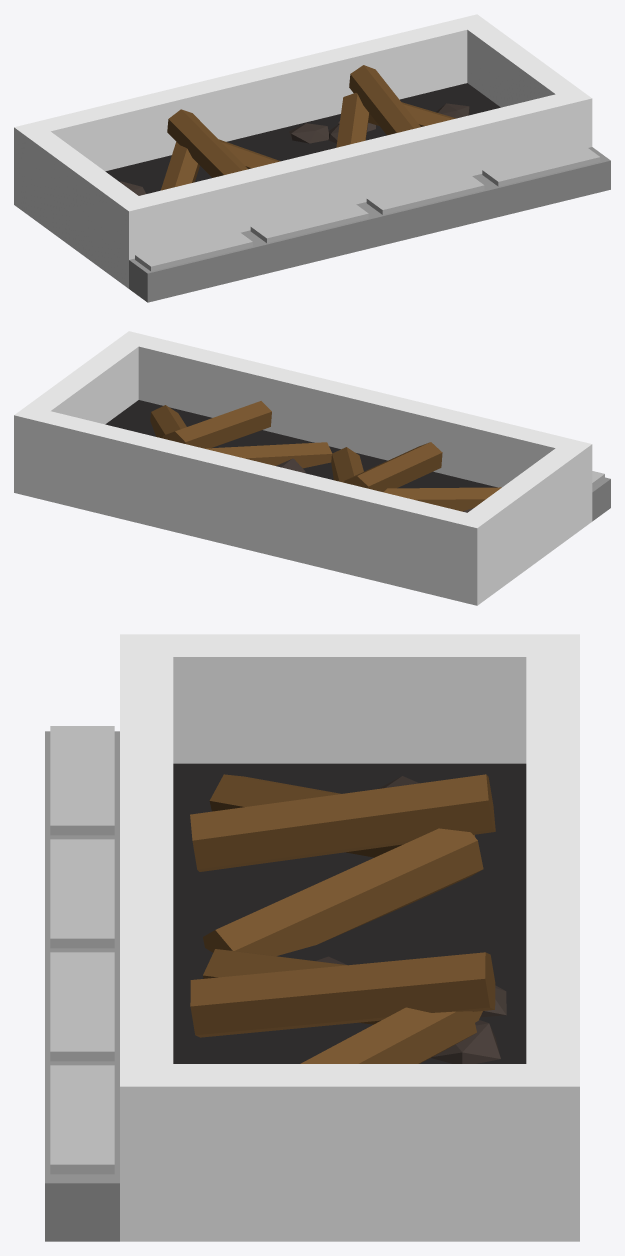
The model's file is vfem2_hearth.obj.
3 views of the same model, one above another, from view 1: azimuth 30°, elevation 25°; view 2: azimuth 150°, elevation 25°; view 3: azimuth 270°, elevation 25° (orthographic). The views are drawn at different scales.
Parts seen in each view (by area): view 1: vfem2_hearth; view 2: vfem2_hearth; view 3: vfem2_hearth.
Part boxes in pixels (bbox=[...]): vfem2_hearth: bbox=[14, 14, 610, 302]; vfem2_hearth: bbox=[14, 331, 610, 605]; vfem2_hearth: bbox=[45, 634, 579, 1241].
Size of the model in its own units: 2 by 0.3204 by 1.
